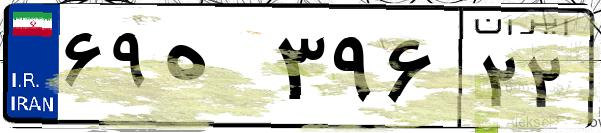2: (475, 38, 525, 113), (525, 38, 570, 115)
3: (270, 28, 330, 110)
6: (385, 28, 445, 110), (57, 26, 110, 100)
9: (330, 28, 385, 110), (110, 28, 158, 98)
ه: (158, 20, 270, 120)
